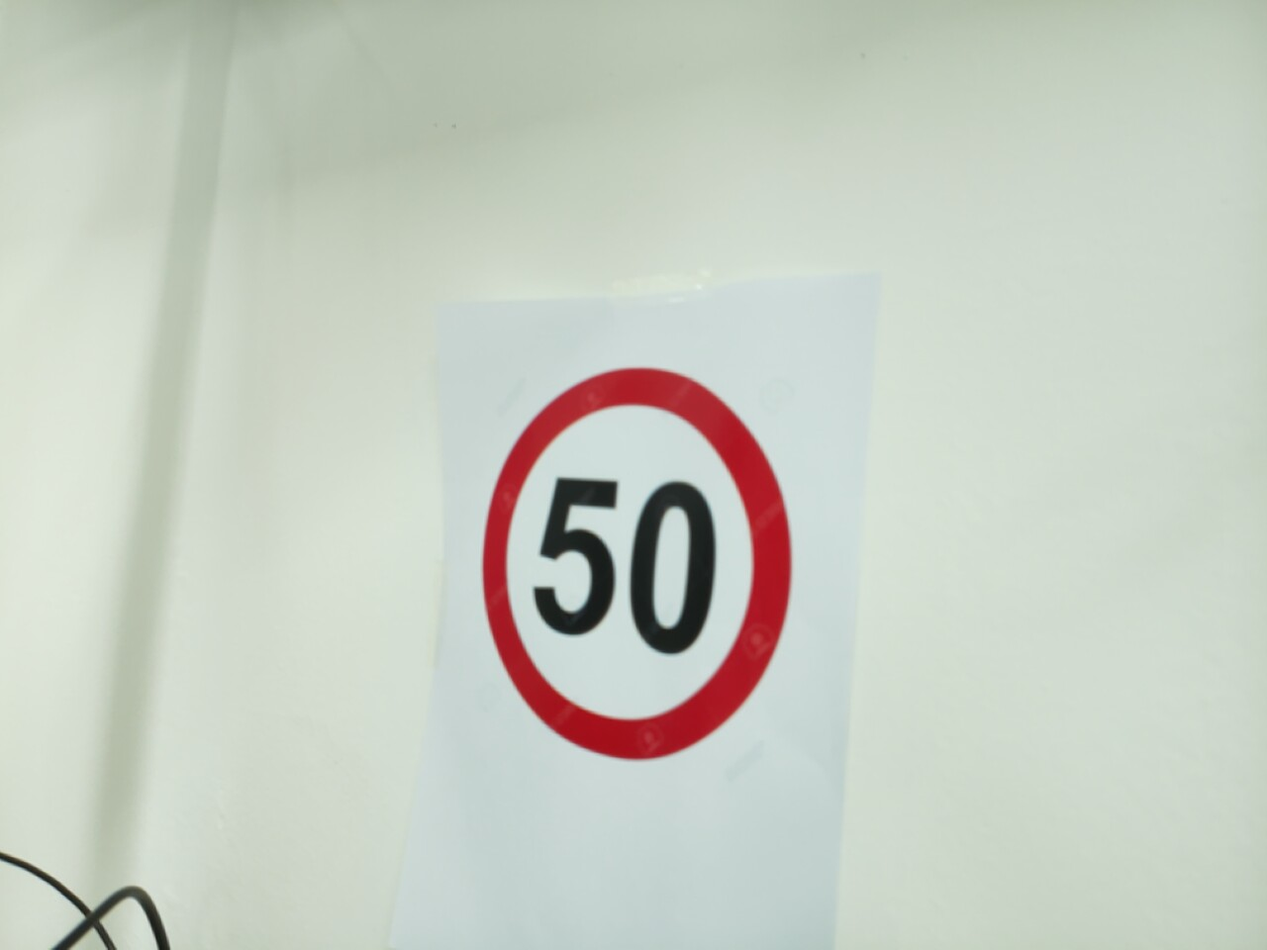speed_50: (472, 356, 802, 772)
